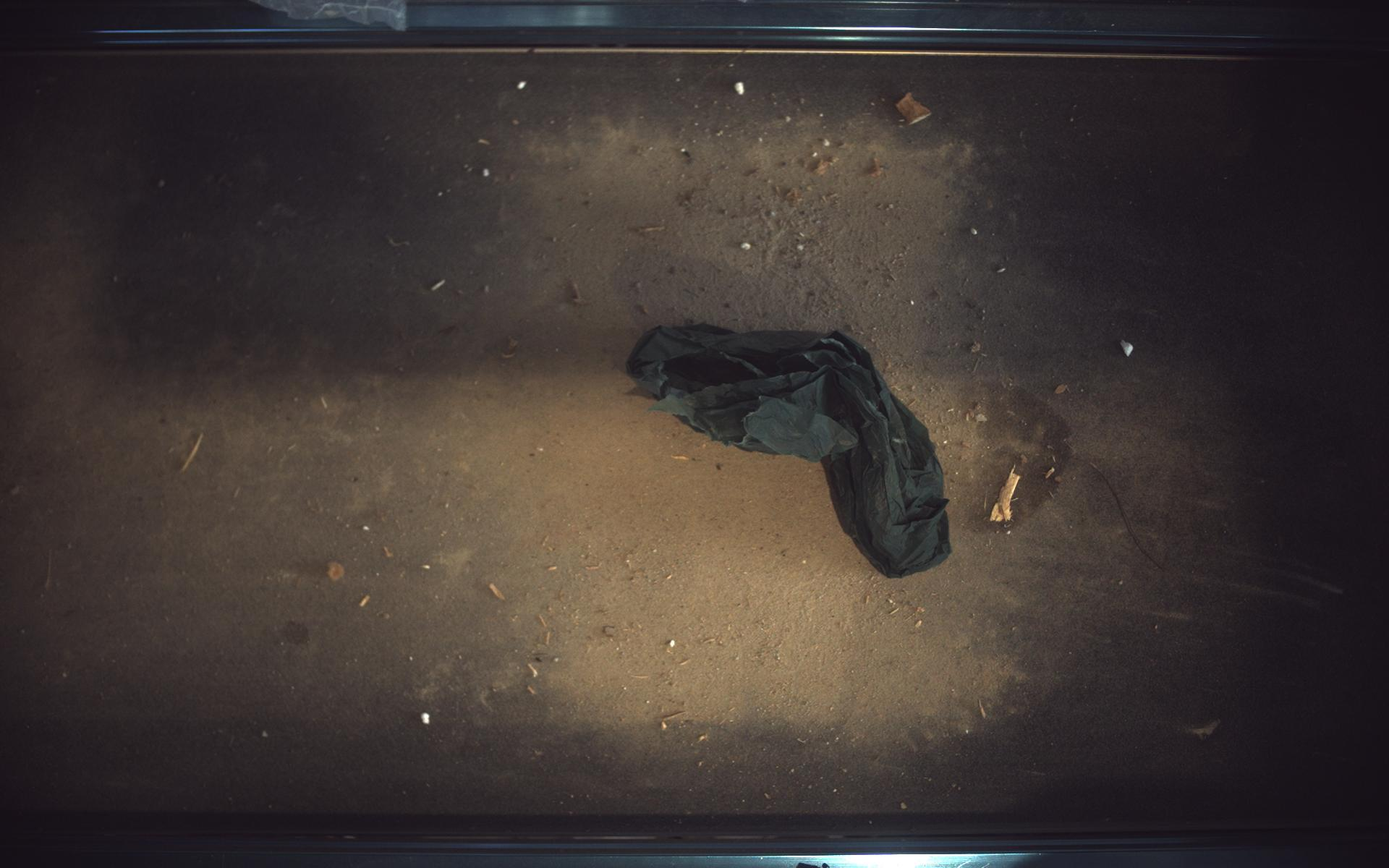general_w: (627, 323, 953, 578)
